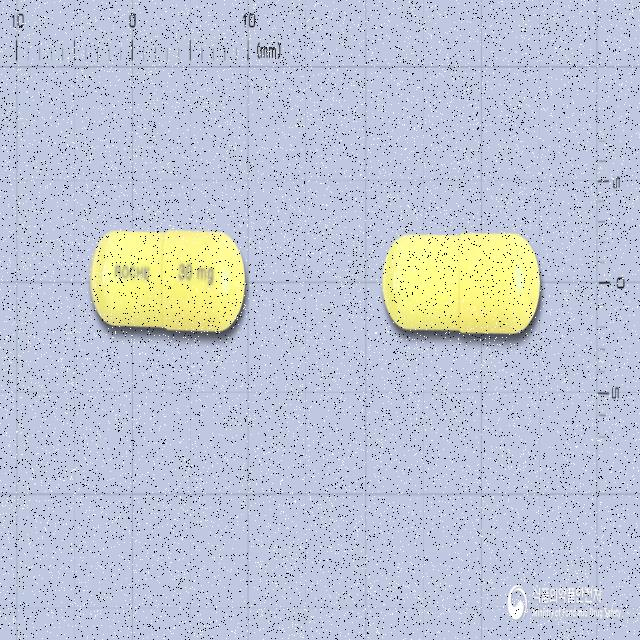Tamiflu Cap: (91, 230, 245, 334)
